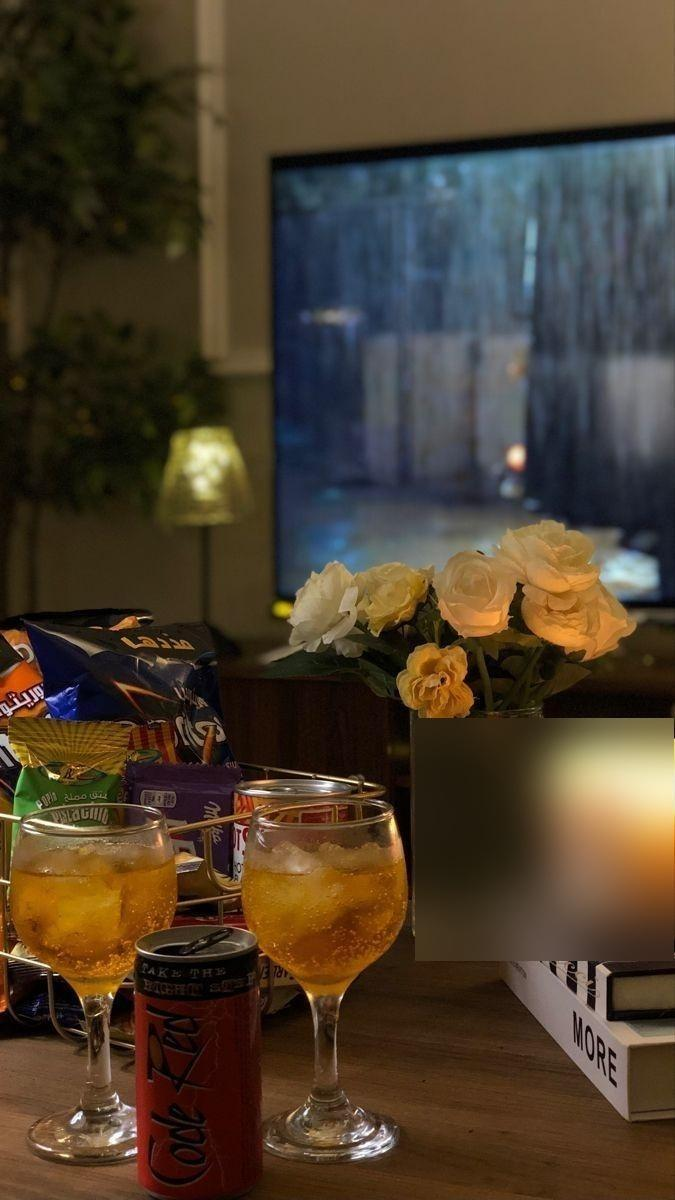glass-wine: (234, 779, 407, 1161), (6, 800, 178, 1160)
tin can: (133, 920, 264, 1200)
